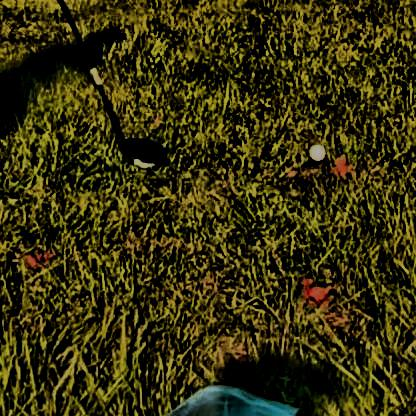golfball: (304, 141, 323, 160)
